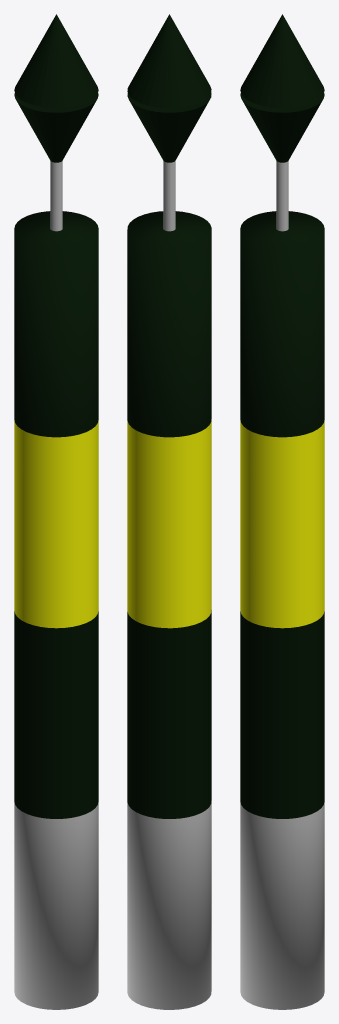
File: Bcn-East.gltf
The picture shows the model from 3 angles, left to right: view 1: azimuth 90°, elevation 25°; view 2: azimuth 150°, elevation 25°; view 3: azimuth 270°, elevation 25°; orthographic projection.
Visible parts, largest first — view 1: Cylinder.032, Cone 1.007, Cone 2.007, Axe.012; view 2: Cylinder.032, Cone 1.007, Cone 2.007, Axe.012; view 3: Cylinder.032, Cone 1.007, Cone 2.007, Axe.012.
Part boxes in pixels (x1,y1,x2,y2): Cylinder.032: (14,211,98,1009); Cone 1.007: (14,14,98,107); Cone 2.007: (14,93,98,162); Axe.012: (50,161,62,231); Cylinder.032: (127,211,211,1009); Cone 1.007: (127,14,211,107); Cone 2.007: (127,93,211,162); Axe.012: (163,161,175,231); Cylinder.032: (240,211,324,1009); Cone 1.007: (240,14,324,107); Cone 2.007: (240,93,324,162); Axe.012: (276,161,288,231).
Bounding box in the file's own units: 0.4 × 5.12 × 0.4.
